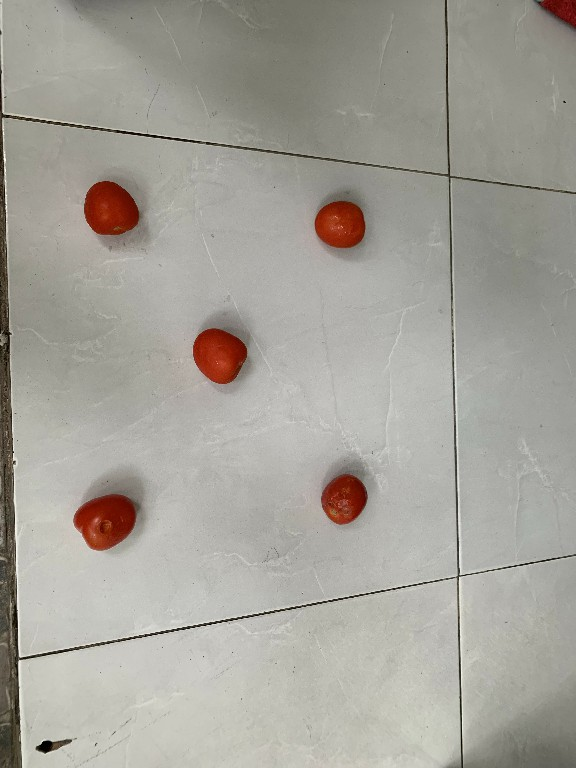NG: (62, 493, 143, 549), (321, 472, 378, 529)
OK: (187, 317, 256, 394), (75, 177, 145, 235), (310, 200, 369, 253)
